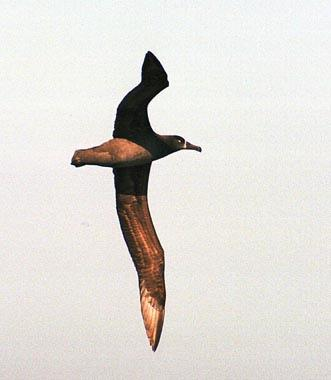001.Black_footed_Albatross: (71, 50, 203, 352)
